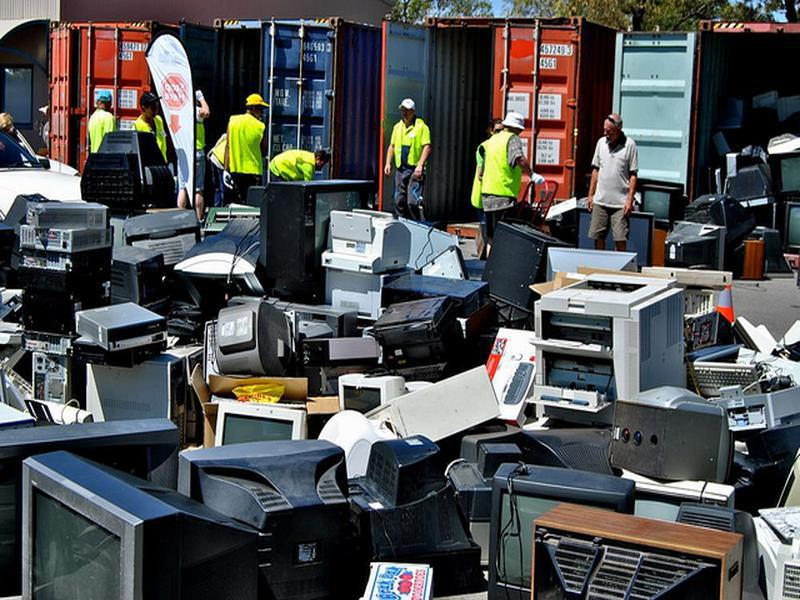tv_pc: (10, 446, 260, 600), (179, 434, 362, 597), (481, 458, 637, 598), (201, 392, 321, 446)
